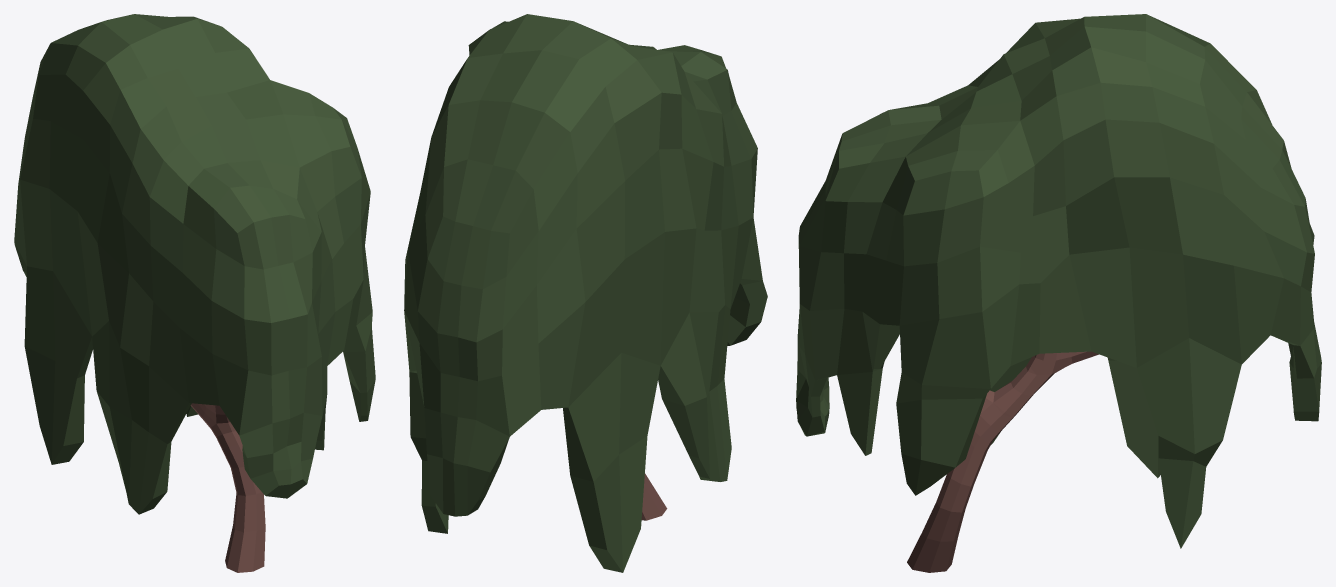
Rendered from willow_1.glb.
The picture shows the model from 3 angles, left to right: view 1: azimuth 30°, elevation 25°; view 2: azimuth 150°, elevation 25°; view 3: azimuth 270°, elevation 25°; orthographic projection. The views are drawn at different scales.
Visible parts, largest first — view 1: Willow_1; view 2: Willow_1; view 3: Willow_1.
Part boxes in pixels (x1=…): Willow_1: x1=14, y1=14, x2=375, y2=572; Willow_1: x1=404, y1=14, x2=767, y2=572; Willow_1: x1=796, y1=14, x2=1321, y2=572.
Size of the model in its own units: 3.48 by 6.83 by 6.13.
